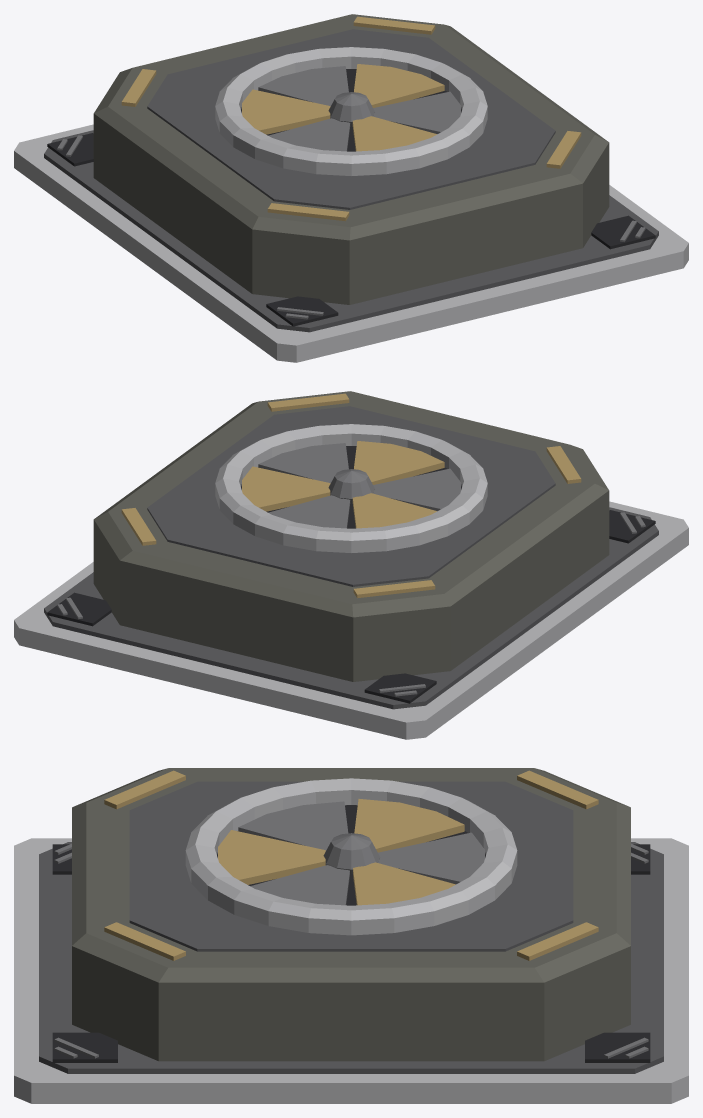
The model's file is ship_reactor_b8.obj.
3 renders of one model, top to bottom at view 1: azimuth 30°, elevation 25°; view 2: azimuth 150°, elevation 25°; view 3: azimuth 270°, elevation 25°, orthographic. The views are drawn at different scales.
Parts seen in each view (by area): view 1: ship_reactor_b8_14, ship_reactor_b8_15, ship_reactor_b8_0, ship_reactor_b8_16, ship_reactor_b8_22, ship_reactor_b8_1, ship_reactor_b8_25, ship_reactor_b8_23, ship_reactor_b8_28, ship_reactor_b8_24, ship_reactor_b8_27, ship_reactor_b8_26 (+8 smaller); view 2: ship_reactor_b8_14, ship_reactor_b8_15, ship_reactor_b8_0, ship_reactor_b8_16, ship_reactor_b8_22, ship_reactor_b8_1, ship_reactor_b8_23, ship_reactor_b8_27, ship_reactor_b8_26, ship_reactor_b8_28, ship_reactor_b8_25, ship_reactor_b8_24 (+8 smaller); view 3: ship_reactor_b8_14, ship_reactor_b8_15, ship_reactor_b8_0, ship_reactor_b8_16, ship_reactor_b8_1, ship_reactor_b8_22, ship_reactor_b8_27, ship_reactor_b8_25, ship_reactor_b8_24, ship_reactor_b8_26, ship_reactor_b8_23, ship_reactor_b8_28 (+8 smaller).
Part boxes in pixels (x1=…): ship_reactor_b8_14: x1=93, y1=113, x2=609, y2=304; ship_reactor_b8_15: x1=94, y1=14, x2=608, y2=240; ship_reactor_b8_0: x1=14, y1=124, x2=688, y2=362; ship_reactor_b8_16: x1=147, y1=29, x2=555, y2=209; ship_reactor_b8_22: x1=215, y1=47, x2=487, y2=175; ship_reactor_b8_1: x1=44, y1=130, x2=658, y2=332; ship_reactor_b8_25: x1=242, y1=89, x2=330, y2=134; ship_reactor_b8_23: x1=354, y1=64, x2=444, y2=107; ship_reactor_b8_28: x1=372, y1=91, x2=460, y2=133; ship_reactor_b8_24: x1=258, y1=66, x2=348, y2=106; ship_reactor_b8_27: x1=352, y1=116, x2=436, y2=151; ship_reactor_b8_26: x1=268, y1=118, x2=350, y2=151; ship_reactor_b8_14: x1=93, y1=490, x2=609, y2=681; ship_reactor_b8_15: x1=94, y1=391, x2=608, y2=617; ship_reactor_b8_0: x1=14, y1=501, x2=688, y2=739; ship_reactor_b8_16: x1=147, y1=406, x2=555, y2=586; ship_reactor_b8_22: x1=215, y1=424, x2=487, y2=552; ship_reactor_b8_1: x1=44, y1=507, x2=658, y2=709; ship_reactor_b8_23: x1=242, y1=466, x2=330, y2=511; ship_reactor_b8_27: x1=354, y1=441, x2=444, y2=484; ship_reactor_b8_26: x1=372, y1=468, x2=460, y2=511; ship_reactor_b8_28: x1=258, y1=443, x2=348, y2=483; ship_reactor_b8_25: x1=352, y1=493, x2=436, y2=528; ship_reactor_b8_24: x1=268, y1=495, x2=350, y2=528; ship_reactor_b8_14: x1=72, y1=946, x2=630, y2=1061; ship_reactor_b8_15: x1=72, y1=768, x2=630, y2=982; ship_reactor_b8_0: x1=14, y1=838, x2=688, y2=1103; ship_reactor_b8_16: x1=129, y1=781, x2=573, y2=951; ship_reactor_b8_1: x1=39, y1=842, x2=663, y2=1073; ship_reactor_b8_22: x1=185, y1=778, x2=517, y2=935; ship_reactor_b8_27: x1=218, y1=830, x2=325, y2=884; ship_reactor_b8_25: x1=354, y1=799, x2=464, y2=852; ship_reactor_b8_24: x1=377, y1=832, x2=484, y2=884; ship_reactor_b8_26: x1=238, y1=801, x2=348, y2=850; ship_reactor_b8_23: x1=353, y1=862, x2=455, y2=905; ship_reactor_b8_28: x1=250, y1=865, x2=349, y2=905.
Bounding box in the file's own units: 6 × 1.67 × 7.
